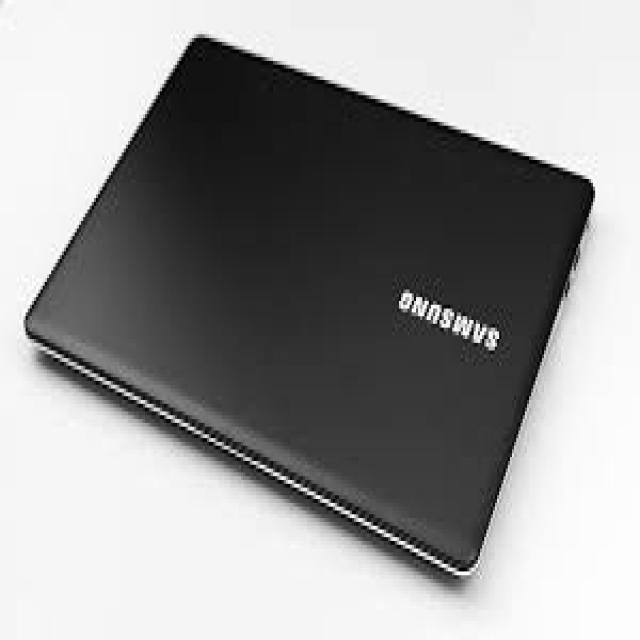laptop: (24, 30, 595, 583)
